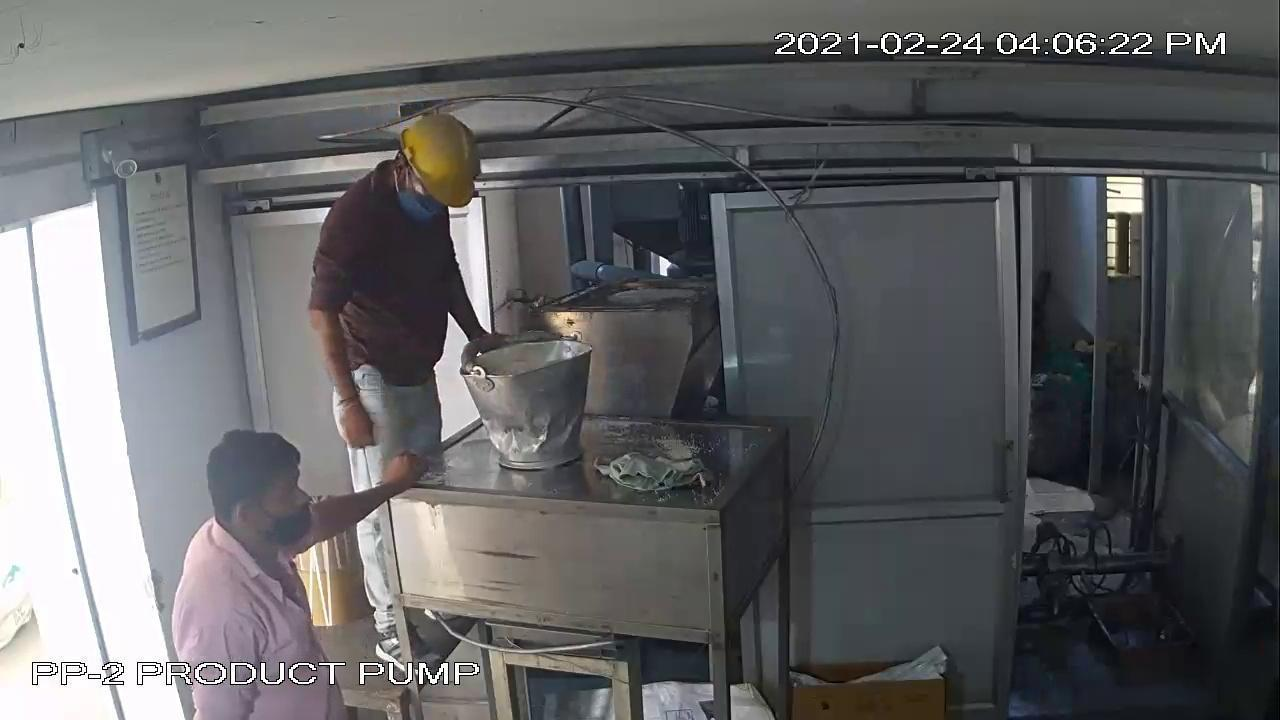Hardhat: (395, 94, 488, 217)
NO-Hardhat: (199, 424, 315, 495)
